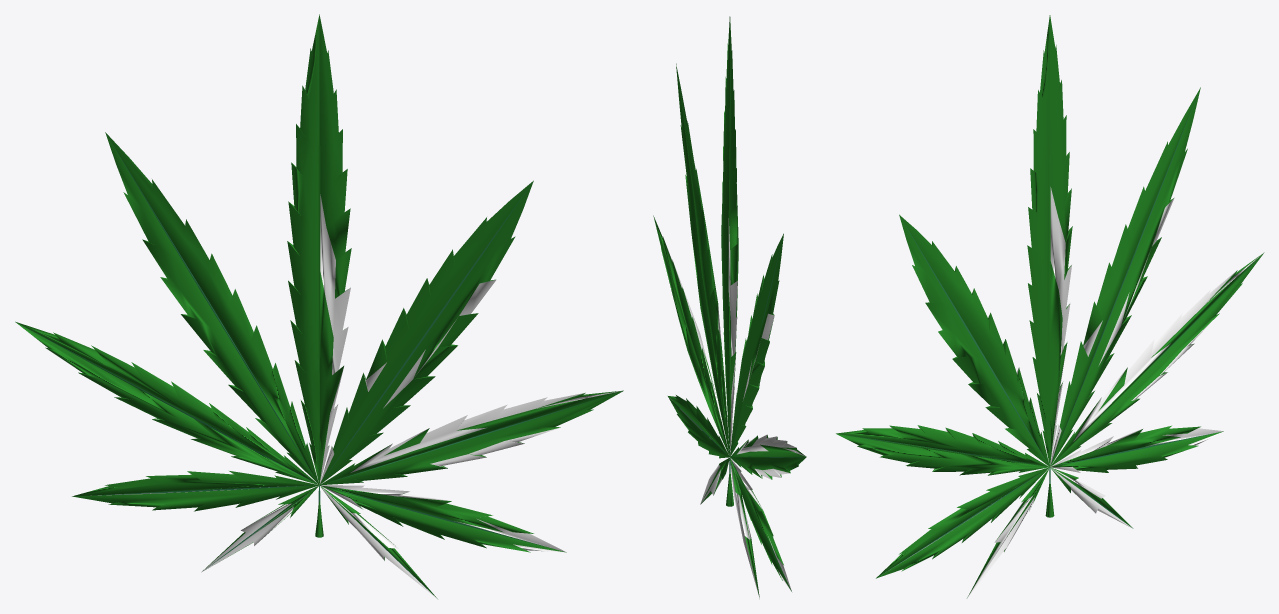
File: leaf.obj
3 renders of one model, left to right at view 1: azimuth 30°, elevation 25°; view 2: azimuth 150°, elevation 25°; view 3: azimuth 270°, elevation 25°, orthographic. The views are drawn at different scales.
Visible parts, largest first — view 1: Mesh11 wietblad_1_2 wietblad_voor_plant1 Model, Mesh14 wietblad_1_2 wietblad_voor_plant1 Model, Mesh16 wietblad_1_2 wietblad_voor_plant1 Model, Mesh13 wietblad_1_2 wietblad_voor_plant1 Model, Mesh17 wietblad_1_2 wietblad_voor_plant1 Model, Mesh12 wietblad_1_2 wietblad_voor_plant1 Model, Mesh19 wietblad_1_2 wietblad_voor_plant1 Model, Mesh15 wietblad_1_2 wietblad_voor_plant1 Model, Mesh18 wietblad_1_2 wietblad_voor_plant1 Model; view 2: Mesh1 wietblad_1_1 wietblad_voor_plant1 Model, Mesh4 wietblad_1_1 wietblad_voor_plant1 Model, Mesh6 wietblad_1_1 wietblad_voor_plant1 Model, Mesh3 wietblad_1_1 wietblad_voor_plant1 Model, Mesh7 wietblad_1_1 wietblad_voor_plant1 Model, Mesh9 wietblad_1_1 wietblad_voor_plant1 Model, Mesh2 wietblad_1_1 wietblad_voor_plant1 Model, Mesh5 wietblad_1_1 wietblad_voor_plant1 Model, Mesh16 wietblad_1_2 wietblad_voor_plant1 Model, Mesh8 wietblad_1_1 wietblad_voor_plant1 Model, Mesh17 wietblad_1_2 wietblad_voor_plant1 Model, Mesh11 wietblad_1_2 wietblad_voor_plant1 Model (+1 smaller); view 3: Mesh1 wietblad_1_1 wietblad_voor_plant1 Model, Mesh6 wietblad_1_1 wietblad_voor_plant1 Model, Mesh4 wietblad_1_1 wietblad_voor_plant1 Model, Mesh7 wietblad_1_1 wietblad_voor_plant1 Model, Mesh3 wietblad_1_1 wietblad_voor_plant1 Model, Mesh9 wietblad_1_1 wietblad_voor_plant1 Model, Mesh2 wietblad_1_1 wietblad_voor_plant1 Model, Mesh5 wietblad_1_1 wietblad_voor_plant1 Model, Mesh8 wietblad_1_1 wietblad_voor_plant1 Model.
Part boxes in pixels (<box>): Mesh11 wietblad_1_2 wietblad_voor_plant1 Model: <box>287,14,351,483</box>; Mesh14 wietblad_1_2 wietblad_voor_plant1 Model: <box>105,132,319,484</box>; Mesh16 wietblad_1_2 wietblad_voor_plant1 Model: <box>319,180,533,484</box>; Mesh13 wietblad_1_2 wietblad_voor_plant1 Model: <box>15,321,318,484</box>; Mesh17 wietblad_1_2 wietblad_voor_plant1 Model: <box>320,390,623,485</box>; Mesh12 wietblad_1_2 wietblad_voor_plant1 Model: <box>72,471,318,511</box>; Mesh19 wietblad_1_2 wietblad_voor_plant1 Model: <box>320,485,566,552</box>; Mesh15 wietblad_1_2 wietblad_voor_plant1 Model: <box>315,485,437,598</box>; Mesh18 wietblad_1_2 wietblad_voor_plant1 Model: <box>201,485,318,572</box>; Mesh1 wietblad_1_1 wietblad_voor_plant1 Model: <box>721,16,737,454</box>; Mesh4 wietblad_1_1 wietblad_voor_plant1 Model: <box>676,63,729,456</box>; Mesh6 wietblad_1_1 wietblad_voor_plant1 Model: <box>730,233,783,456</box>; Mesh3 wietblad_1_1 wietblad_voor_plant1 Model: <box>653,215,729,456</box>; Mesh7 wietblad_1_1 wietblad_voor_plant1 Model: <box>730,435,806,479</box>; Mesh9 wietblad_1_1 wietblad_voor_plant1 Model: <box>730,458,792,592</box>; Mesh2 wietblad_1_1 wietblad_voor_plant1 Model: <box>668,395,729,458</box>; Mesh5 wietblad_1_1 wietblad_voor_plant1 Model: <box>726,458,759,597</box>; Mesh16 wietblad_1_2 wietblad_voor_plant1 Model: <box>681,126,728,440</box>; Mesh8 wietblad_1_1 wietblad_voor_plant1 Model: <box>700,457,729,504</box>; Mesh17 wietblad_1_2 wietblad_voor_plant1 Model: <box>665,243,720,419</box>; Mesh11 wietblad_1_2 wietblad_voor_plant1 Model: <box>722,17,738,417</box>; Mesh1 wietblad_1_1 wietblad_voor_plant1 Model: <box>1027,15,1072,465</box>; Mesh6 wietblad_1_1 wietblad_voor_plant1 Model: <box>1050,87,1200,466</box>; Mesh4 wietblad_1_1 wietblad_voor_plant1 Model: <box>899,214,1049,466</box>; Mesh7 wietblad_1_1 wietblad_voor_plant1 Model: <box>1050,252,1264,466</box>; Mesh3 wietblad_1_1 wietblad_voor_plant1 Model: <box>836,425,1049,475</box>; Mesh9 wietblad_1_1 wietblad_voor_plant1 Model: <box>1050,425,1223,472</box>; Mesh2 wietblad_1_1 wietblad_voor_plant1 Model: <box>876,467,1049,578</box>; Mesh5 wietblad_1_1 wietblad_voor_plant1 Model: <box>1047,467,1133,528</box>; Mesh8 wietblad_1_1 wietblad_voor_plant1 Model: <box>967,468,1049,598</box>.
Bounding box in the file's own units: 2000 × 2828 × 2000.
